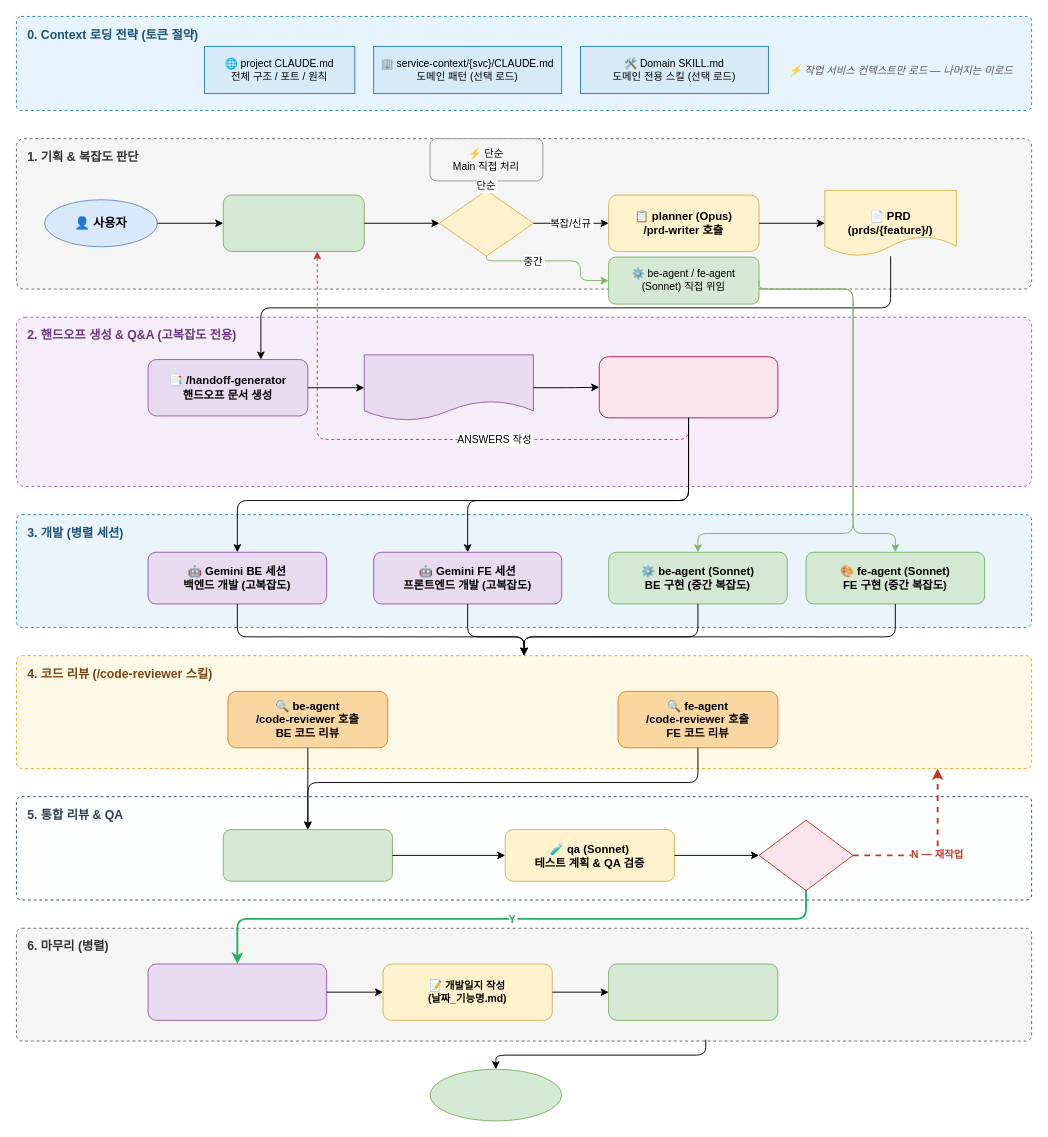
The diagram is 1048 pixels wide and 1137 high, and some of its shapes have lost their labels. The box of each missing label's shape, as (x1, y1, x2, y2) in pixels:
5a. 통합 리뷰 Main Claude + 사용자: (222, 829, 392, 881)
QA 통과?: (758, 819, 853, 891)
✅ 완료: (429, 1068, 562, 1121)
❓ Q&A 사이클 QUESTIONS → ANSWERS CONFIRMED → RESOLVED: (598, 356, 778, 418)
복잡도 판단: (439, 189, 533, 256)
📄 handoff-{svc}-{layer}-v{N}.md (handoffs/{feature}/): (363, 354, 533, 421)
📦 핸드오프 아카이빙 handoffs/ → reviewed/ 파일명에 -final 추가: (147, 963, 327, 1020)
🚀 docs 커밋 & 푸시: (608, 963, 778, 1020)
🧠 Main Claude (오케스트레이터): (222, 194, 364, 251)
